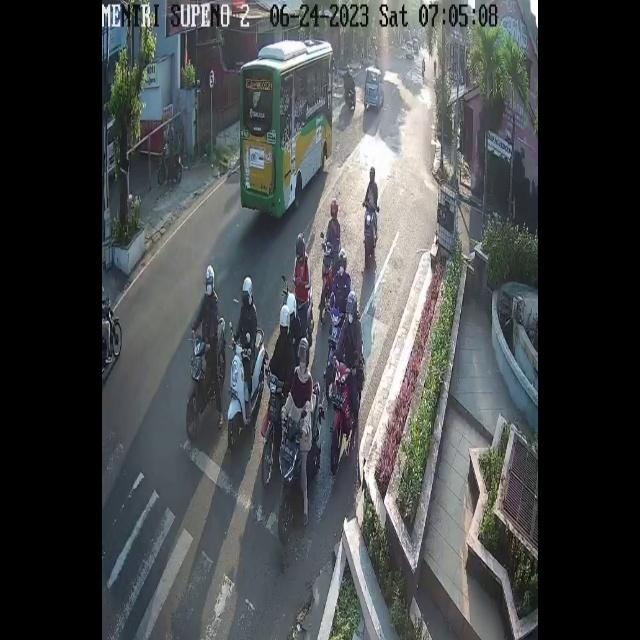bus: (280, 384, 325, 538), (184, 317, 227, 442), (229, 330, 266, 451), (327, 356, 364, 474), (258, 367, 284, 488), (324, 306, 351, 360), (282, 289, 312, 334), (322, 241, 338, 313), (363, 201, 378, 267), (156, 153, 184, 188), (346, 83, 356, 115)
car: (242, 40, 334, 220)
motorcycle: (363, 66, 382, 113)
